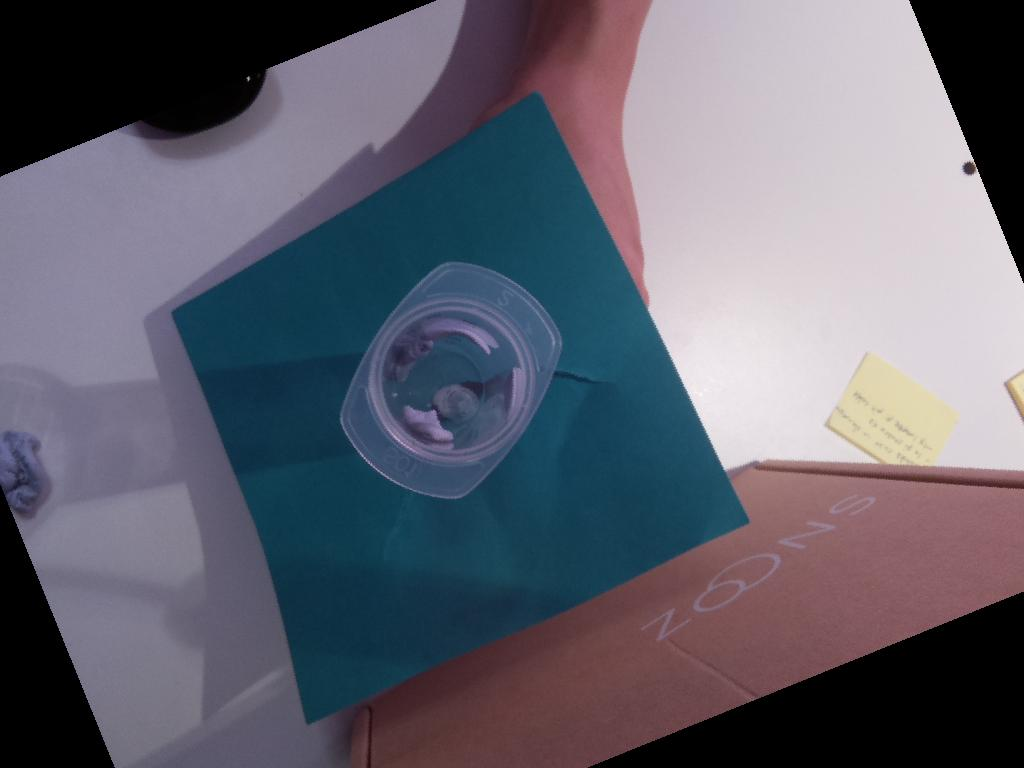dirty: (338, 258, 563, 499)
